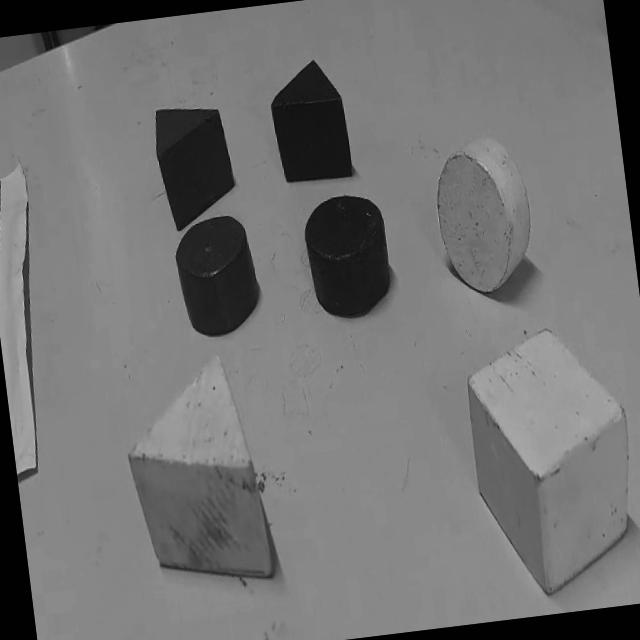bcircle: (299, 188, 396, 324)
btriangle: (266, 57, 354, 188)
rcircle: (170, 212, 262, 341)
rtriangle: (150, 101, 240, 234)
ycircle: (428, 133, 538, 298)
ycube: (459, 319, 640, 604)
ytriangle: (116, 347, 276, 591)
